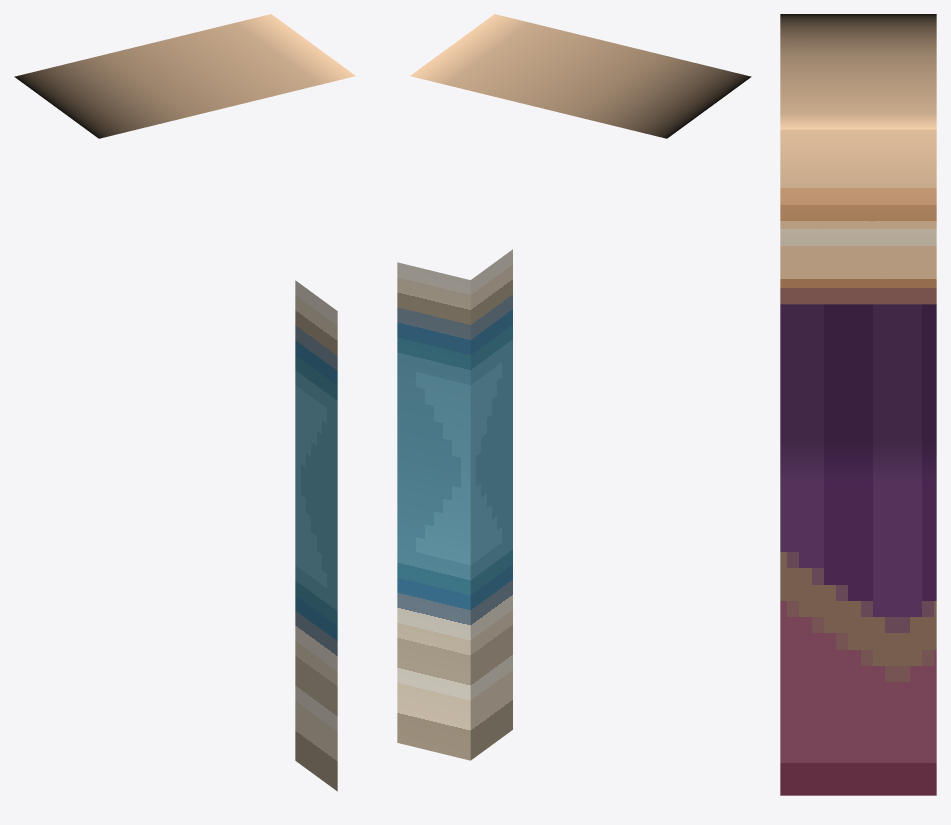
The picture shows the model from 3 angles, left to right: view 1: azimuth 30°, elevation 25°; view 2: azimuth 150°, elevation 25°; view 3: azimuth 270°, elevation 25°; orthographic projection. The views are drawn at different scales.
Bounding box in the file's own units: 2.12 × 4.75 × 1.
Materials: 4 (4 with a texture image).
